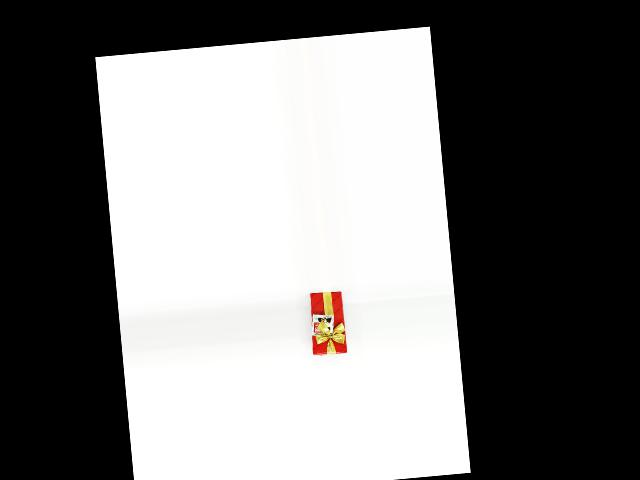chocolate: (307, 291, 350, 358)
